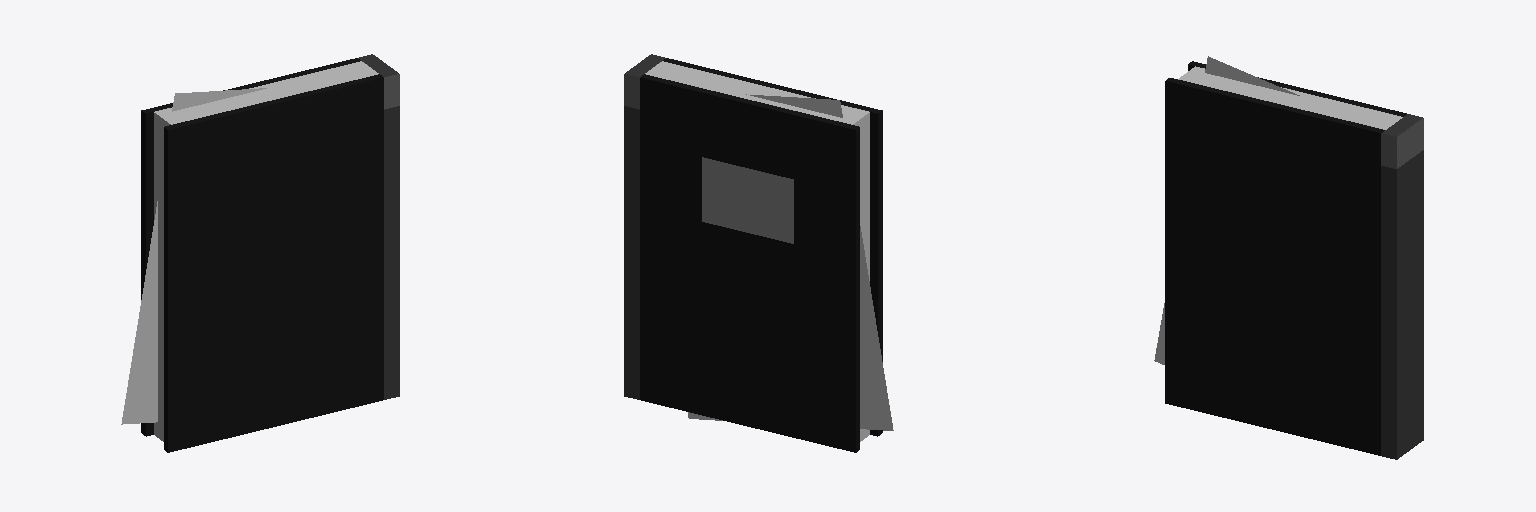
The picture shows the model from 3 angles: view 1: azimuth 30°, elevation 25°; view 2: azimuth 150°, elevation 25°; view 3: azimuth 330°, elevation 25°; orthographic projection.
Visible parts, largest first — view 1: Back_Cover, Pages, Spine, Loose_page, Front_Cover; view 2: Front_Cover, Spine, Loose_page, Pages, Back_Cover; view 3: Back_Cover, Spine, Pages, Loose_page, Front_Cover.
Part boxes in pixels (x1,y1,x2,y2): Back_Cover: (164, 74, 383, 452); Pages: (154, 61, 378, 441); Spine: (358, 54, 399, 399); Loose_page: (121, 88, 266, 424); Front_Cover: (141, 58, 360, 436); Front_Cover: (640, 74, 859, 452); Spine: (624, 54, 665, 399); Loose_page: (688, 94, 893, 430); Pages: (645, 61, 869, 441); Back_Cover: (663, 58, 882, 436); Back_Cover: (1165, 78, 1384, 455); Spine: (1381, 114, 1423, 459); Pages: (1178, 66, 1402, 129); Loose_page: (1154, 56, 1299, 364); Front_Cover: (1188, 61, 1406, 116).
Size of the model in its own units: 0.5275 by 0.6888 by 0.0938.
1 materials, 1 textured.